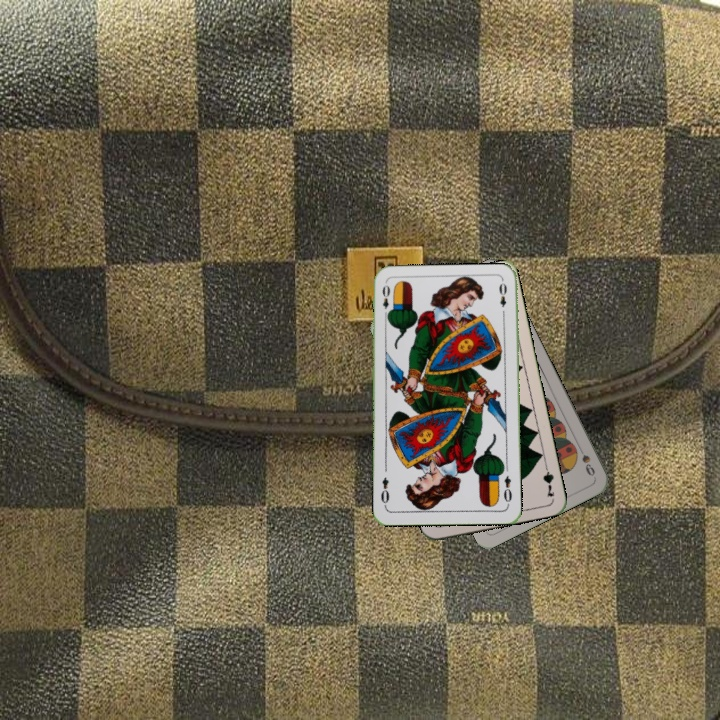EO: (378, 281, 393, 321), (499, 472, 514, 504)
G7: (539, 459, 557, 500)
S9: (574, 441, 598, 479)
